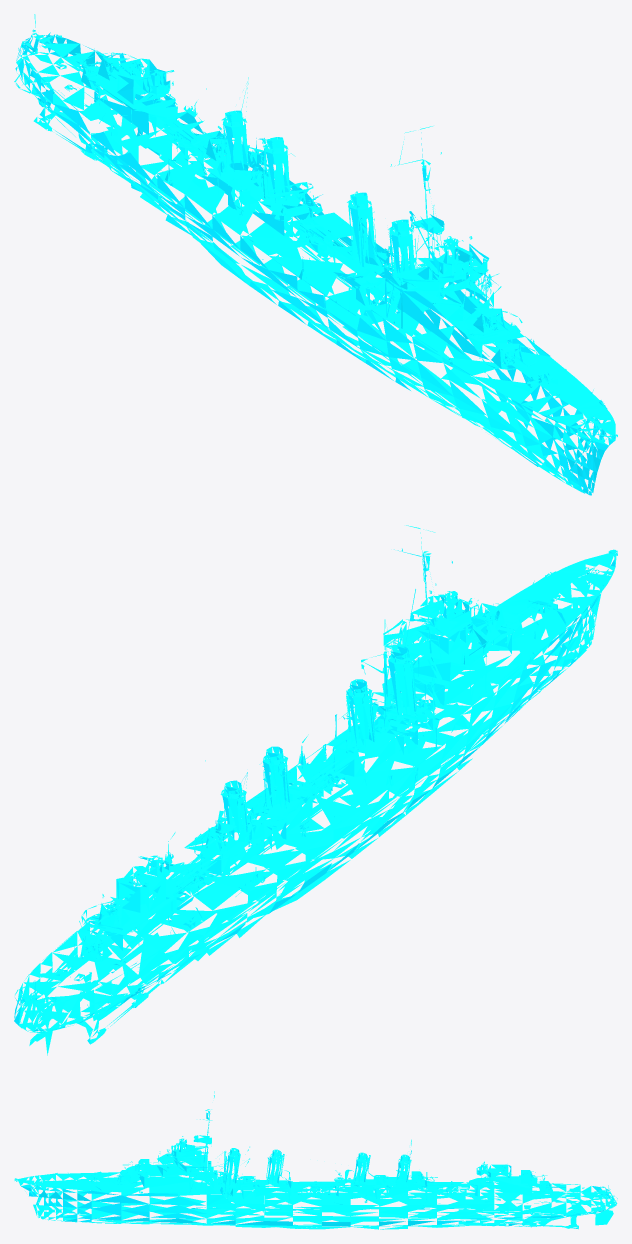
File: Aigle.glb
3 renders of one model, top to bottom at view 1: azimuth 30°, elevation 25°; view 2: azimuth 150°, elevation 25°; view 3: azimuth 270°, elevation 25°, orthographic. The views are drawn at different scales.
Size of the model in its own units: 0.8153 by 2.09 by 8.57.
